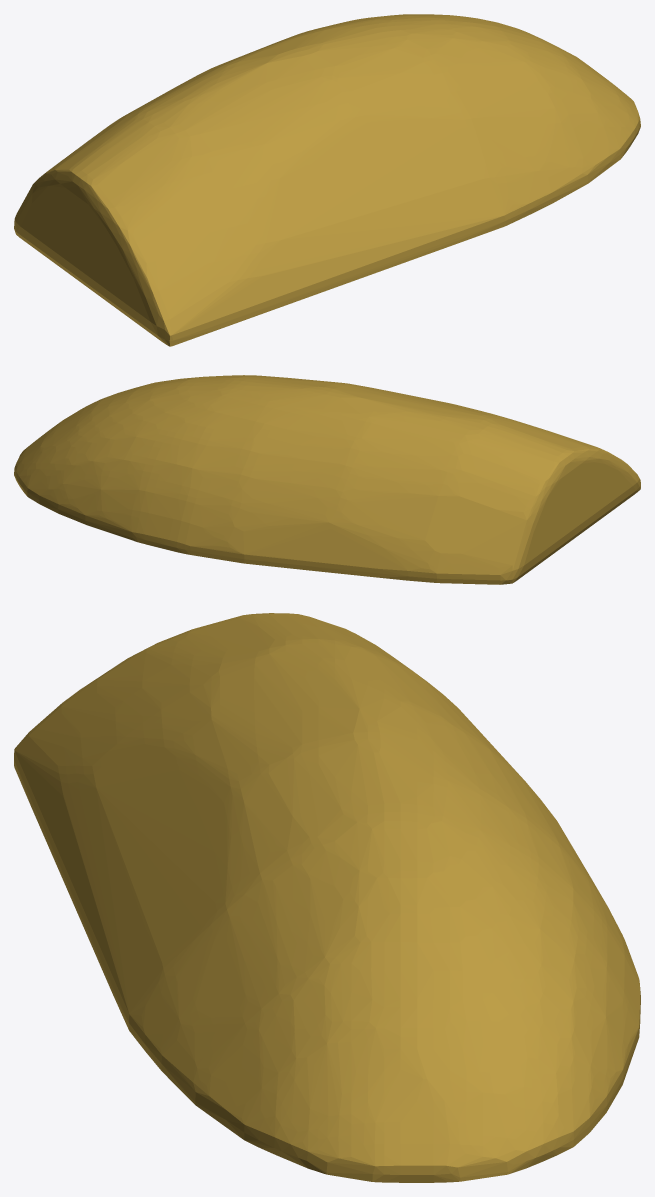
File: left-elbow-0_part_37.obj
3 renders of one model, top to bottom at view 1: azimuth 30°, elevation 25°; view 2: azimuth 150°, elevation 25°; view 3: azimuth 270°, elevation 25°, orthographic. The views are drawn at different scales.
Bounding box in the file's own units: 0.0473 × 0.0111 × 0.0297.
